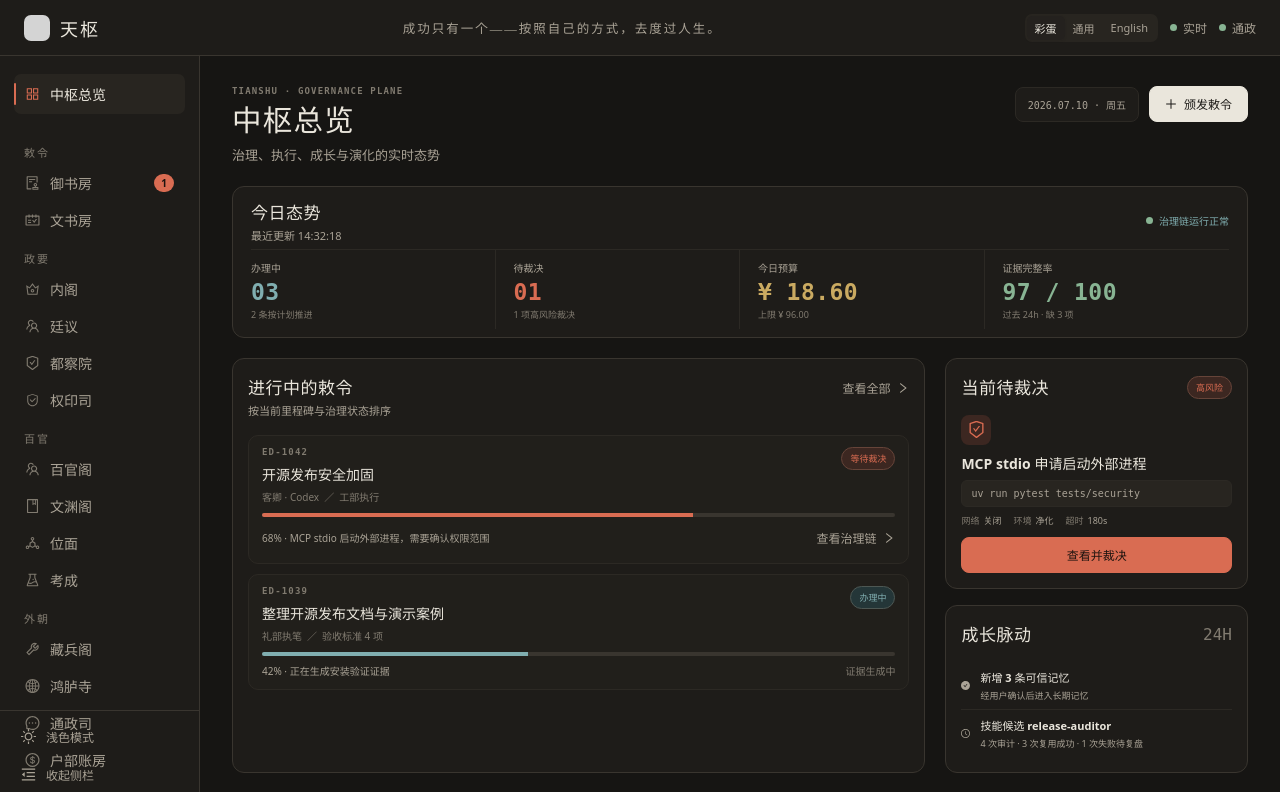
it: Tianshu Agent OS approval prototype › describes the current prototype round as acceptance-only
The image size is (1280, 792).
Click the button "文书房".
click(100, 220)  # box [14,202,185,238]
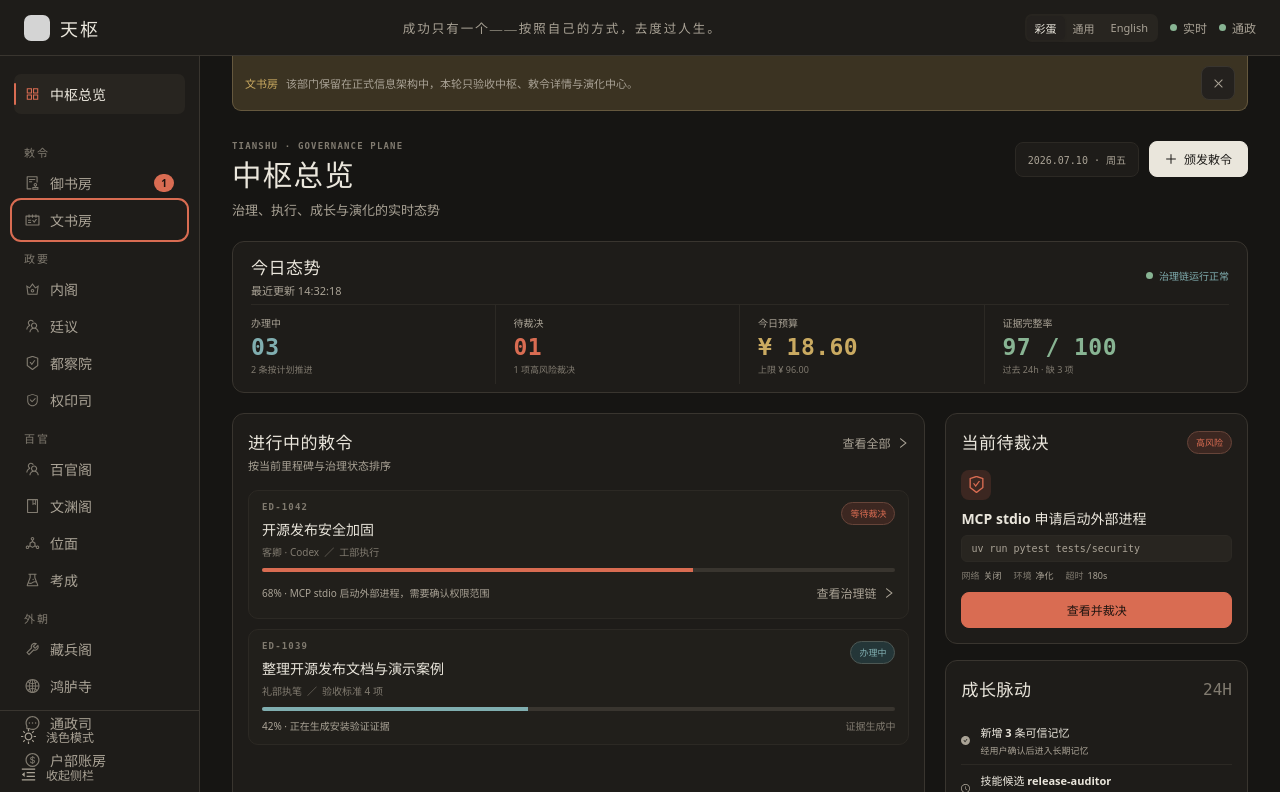
Expected: the text "该部门保留在正式信息架构中，本轮只验收中枢、敕令详情与演化中心。" is shown, [286,75,638,91]
